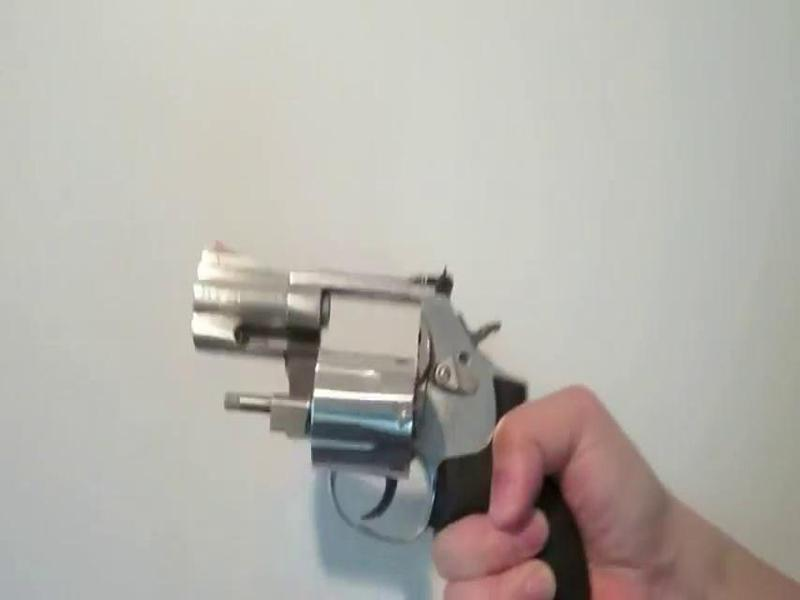Revolver: (167, 211, 555, 600)
